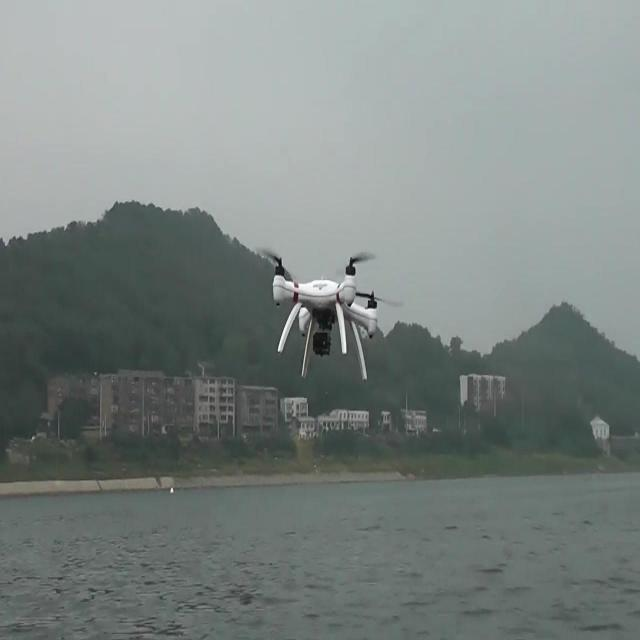UAV: (257, 248, 402, 381)
